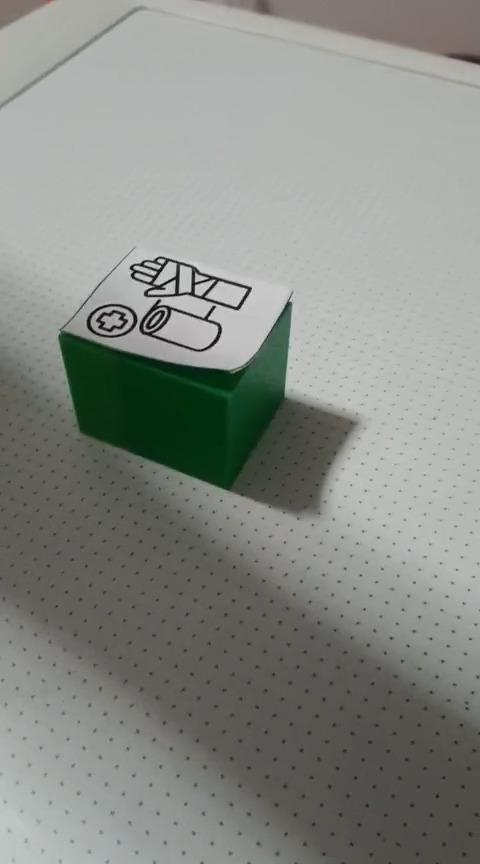Bandages: (56, 245, 294, 490)
